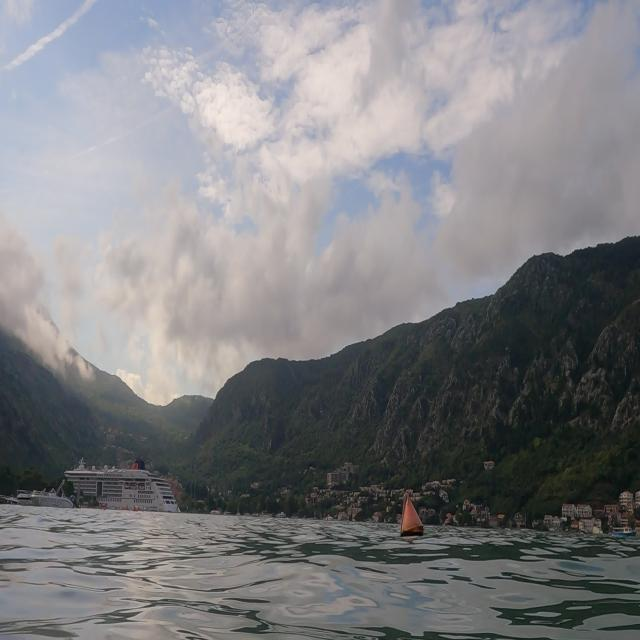boat: (62, 449, 189, 527), (13, 478, 85, 523)
buoy: (396, 488, 426, 546)
